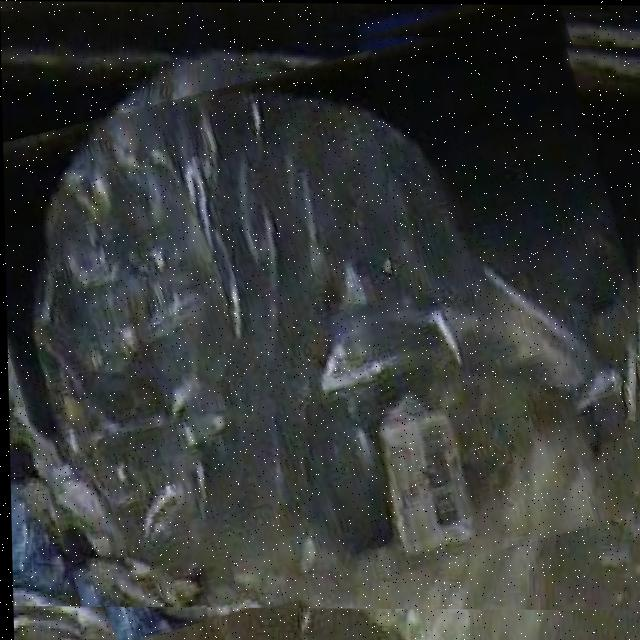litter: (0, 14, 640, 609)
